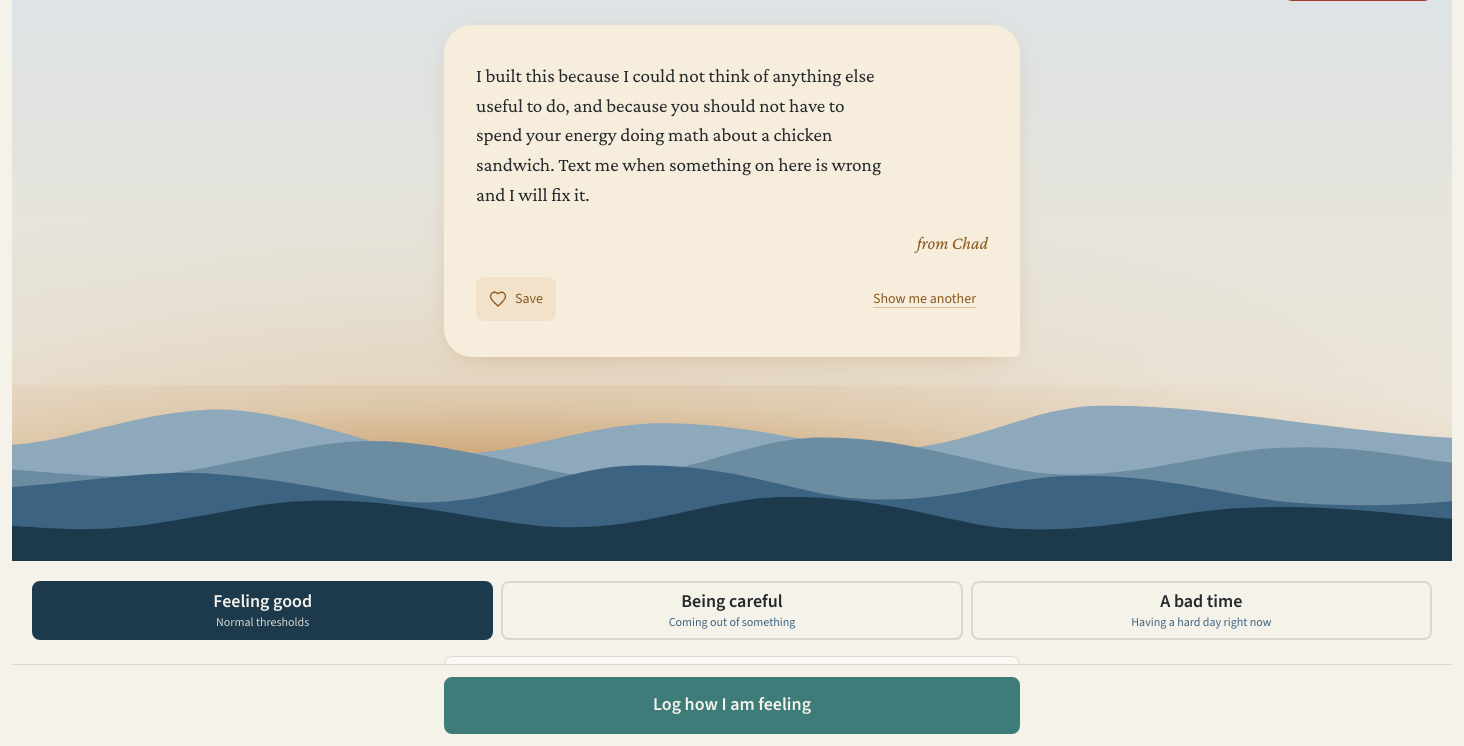
FlareGate, invariant 1 › asks the five questions from spec section 4 and offers both answers
Click the radio button labelled "A bad time Having a hard day right now".
click(1201, 610)  # box left=971, top=580, right=1432, bottom=640
(page scrolled)
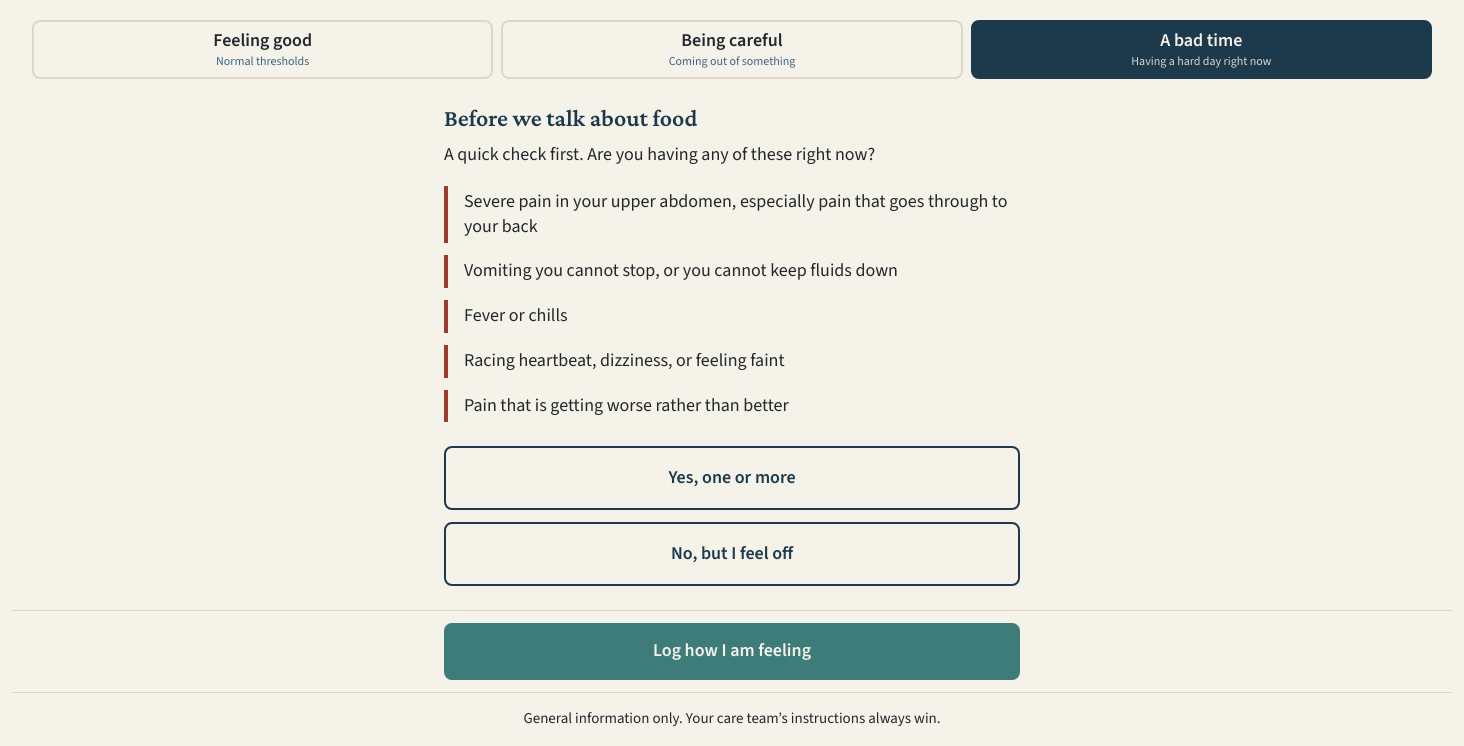
Expected: the number of list items is 5, left=444, top=186, right=1020, bottom=243; left=444, top=255, right=1020, bottom=288; left=444, top=300, right=1020, bottom=333; left=444, top=345, right=1020, bottom=378; left=444, top=390, right=1020, bottom=422
Expected: the list item "Severe pain in your upper abdomen, especially pain that goes through to your back" is shown, left=464, top=189, right=1008, bottom=239
Expected: the list item "Vomiting you cannot stop, or you cannot keep fluids down" is shown, left=444, top=255, right=1020, bottom=288
